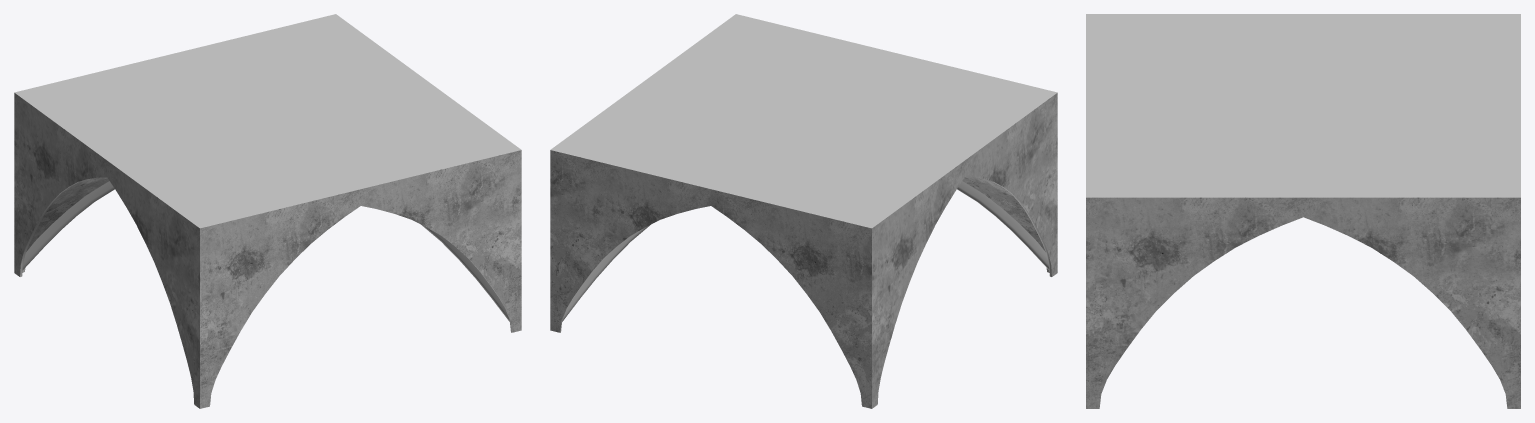
The model's file is SM_Ceiling_01a.fbx.
The picture shows the model from 3 angles, left to right: view 1: azimuth 30°, elevation 25°; view 2: azimuth 150°, elevation 25°; view 3: azimuth 270°, elevation 25°; orthographic projection. The views are drawn at different scales.
Parts seen in each view (by area): view 1: SM_Ceiling_01a_LOD0; view 2: SM_Ceiling_01a_LOD0; view 3: SM_Ceiling_01a_LOD0.
Boxes of the visible parts, x1,y1,x2,y2 form: SM_Ceiling_01a_LOD0: (14, 14, 521, 408); SM_Ceiling_01a_LOD0: (550, 14, 1057, 408); SM_Ceiling_01a_LOD0: (1086, 14, 1520, 408).
Bounding box in the file's own units: 800 × 800 × 429.
